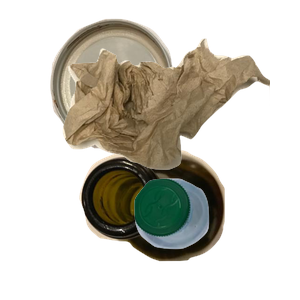glass: (77, 147, 295, 300)
metal: (47, 16, 214, 157)
plastic: (132, 176, 300, 300)
trash: (60, 36, 300, 198)
